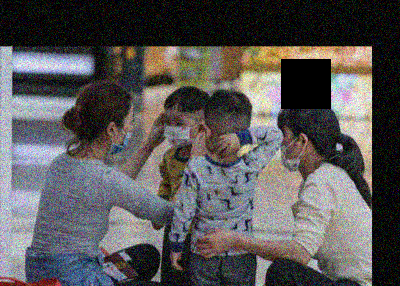with_mask: (163, 113, 197, 147), (114, 112, 136, 157), (280, 128, 301, 173)
